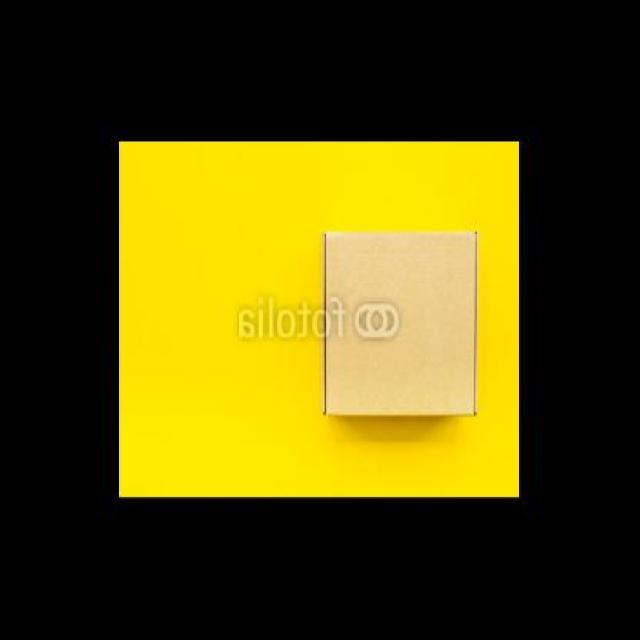cardboxes: (324, 233, 479, 415)
